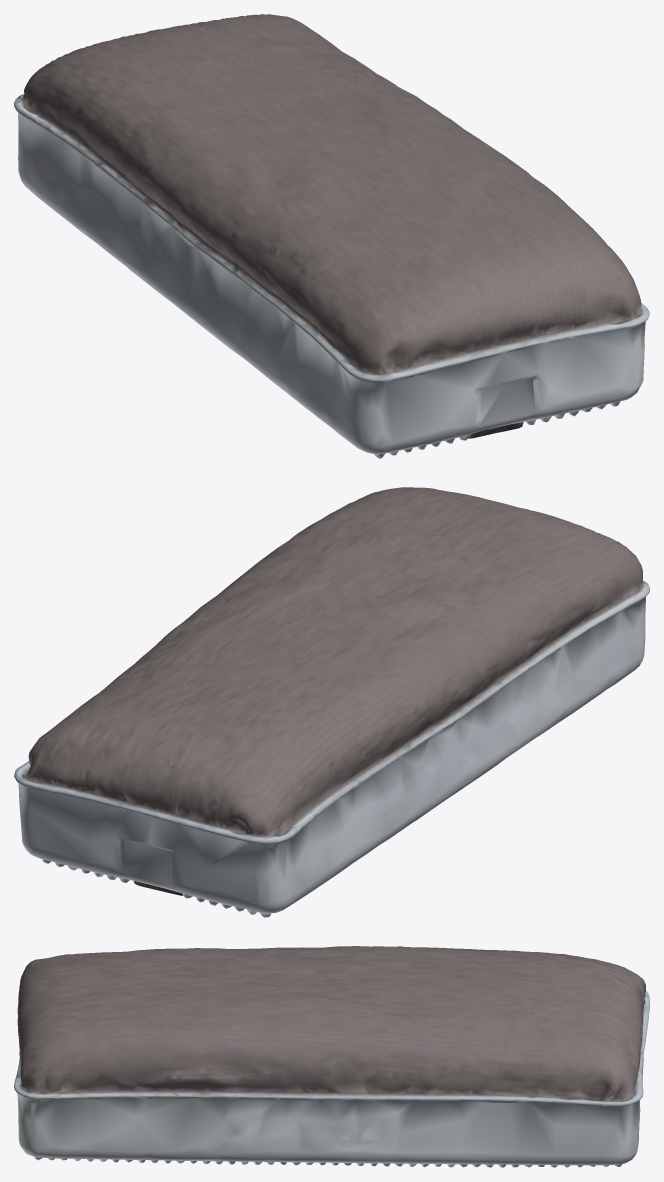
The picture shows the model from 3 angles, top to bottom: view 1: azimuth 30°, elevation 25°; view 2: azimuth 150°, elevation 25°; view 3: azimuth 270°, elevation 25°; orthographic projection. The views are drawn at different scales.
Parts seen in each view (by area): view 1: mesh0_object.004; view 2: mesh0_object.004; view 3: mesh0_object.004.
Part boxes in pixels (bbox=[...]): mesh0_object.004: bbox=[14, 14, 649, 458]; mesh0_object.004: bbox=[14, 487, 649, 917]; mesh0_object.004: bbox=[14, 946, 649, 1167].
Size of the model in its own units: 0.0678 by 0.0366 by 0.1474.
1 material, 1 textured.
